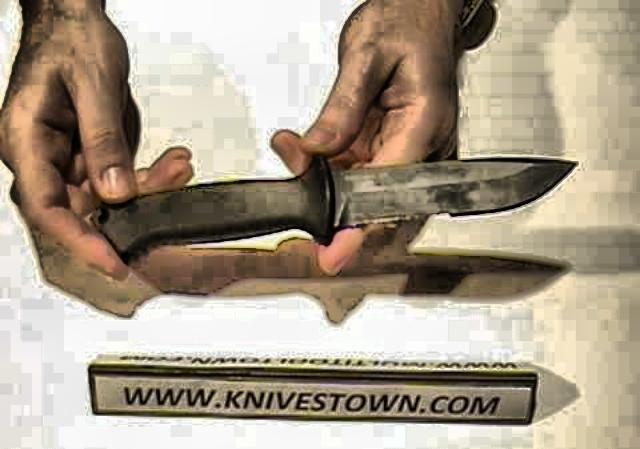knife: (262, 140, 604, 250)
